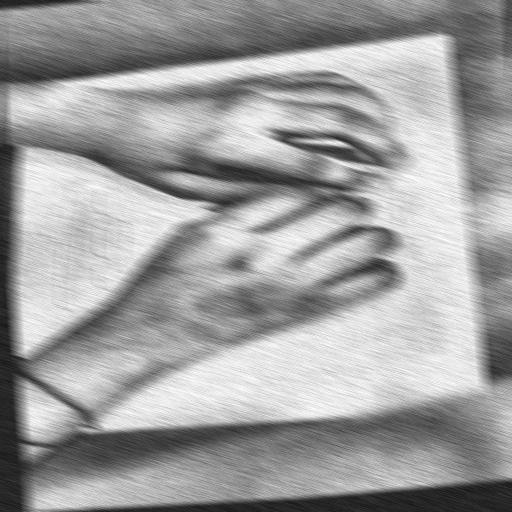bottom_left: (18, 82, 34, 92)
mobile: (30, 137, 459, 325)
top_left: (438, 29, 452, 37)
top_right: (481, 404, 494, 412)
